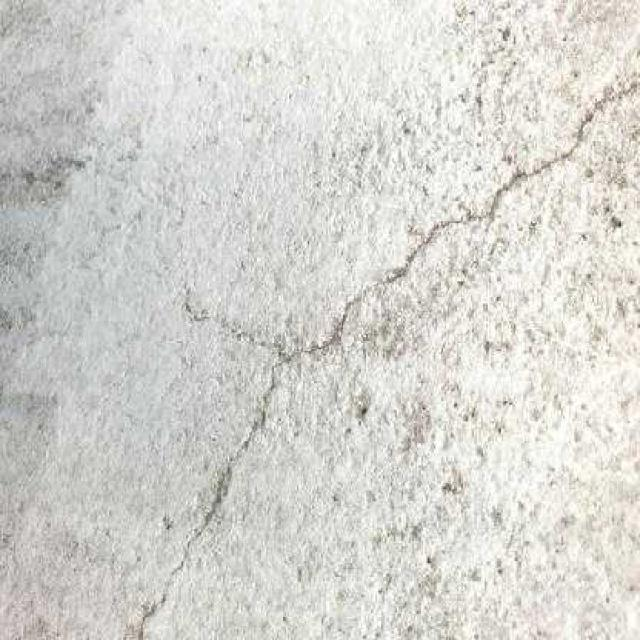D00: (133, 74, 640, 634)
